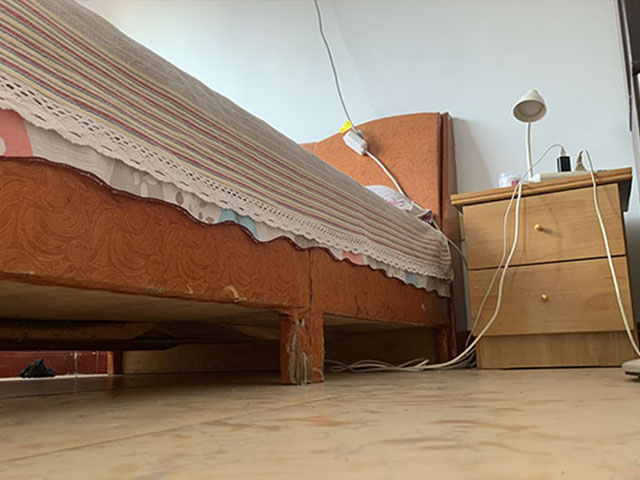bed: (1, 1, 452, 388)
cabinet: (450, 163, 640, 372)
wire: (578, 149, 640, 364), (326, 340, 480, 376)
